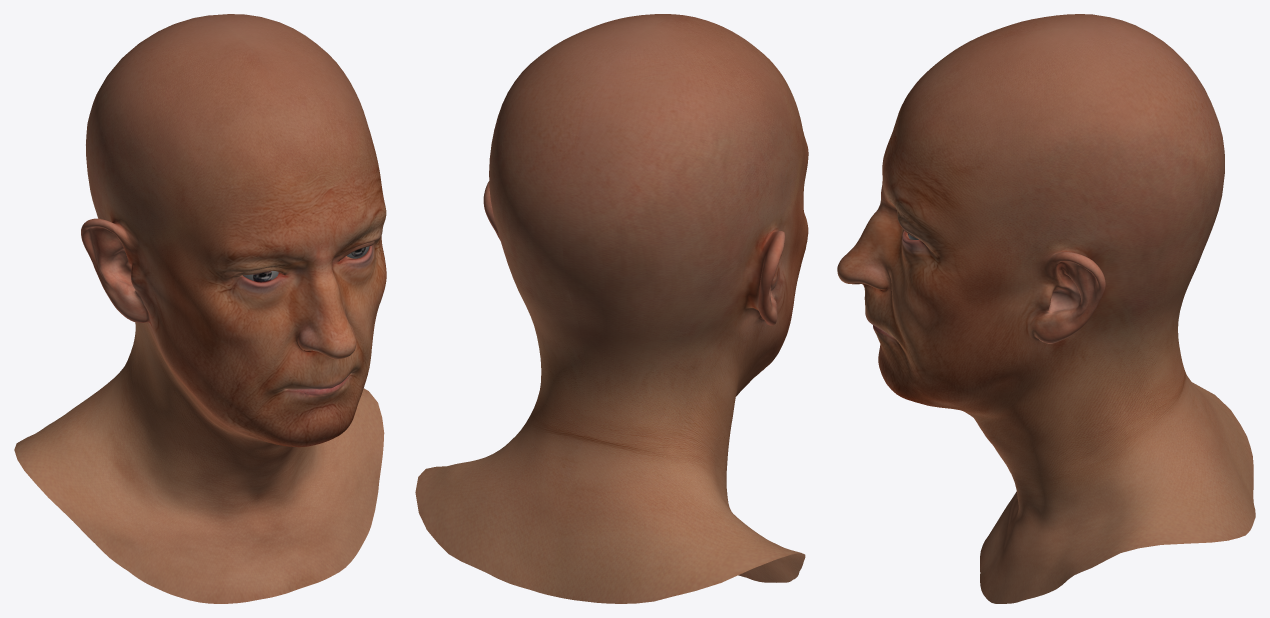
3 views of the same model, side by side, from view 1: azimuth 30°, elevation 25°; view 2: azimuth 150°, elevation 25°; view 3: azimuth 270°, elevation 25° (orthographic). The views are drawn at different scales.
Parts seen in each view (by area): view 1: UnchangedNativeHead; view 2: UnchangedNativeHead; view 3: UnchangedNativeHead.
Part boxes in pixels (bbox=[...]): UnchangedNativeHead: bbox=[14, 14, 386, 603]; UnchangedNativeHead: bbox=[415, 14, 808, 603]; UnchangedNativeHead: bbox=[837, 14, 1255, 603].
Bounding box in the file's own units: 1.26 × 1.87 × 1.3.
Materials: 3 (3 with a texture image).
